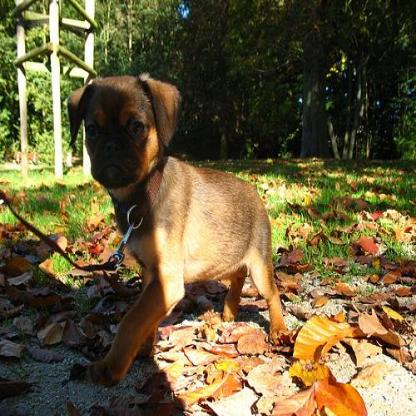Brabancon_griffon: (67, 71, 294, 385)
